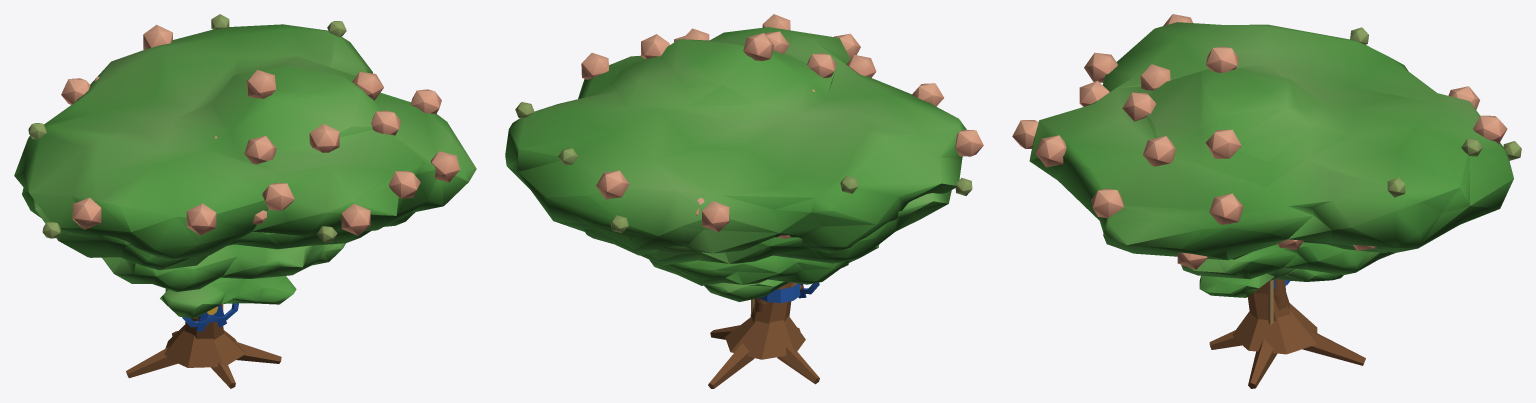
File: peach_tree.glb
3 renders of one model, left to right at view 1: azimuth 30°, elevation 25°; view 2: azimuth 150°, elevation 25°; view 3: azimuth 270°, elevation 25°, orthographic. The views are drawn at different scales.
Visible parts, largest first — view 1: tree-peach_tree-ready-heirloom, tree-peach_tree-mature-heirloom, tree-peach_tree-young, tree-peach_tree-sapling, tree-peach_tree-mature, tree-peach_tree-ready; view 2: tree-peach_tree-mature-heirloom, tree-peach_tree-ready-heirloom, tree-peach_tree-young, tree-peach_tree-mature, tree-peach_tree-ready, tree-peach_tree-sapling; view 3: tree-peach_tree-ready-heirloom, tree-peach_tree-mature-heirloom, tree-peach_tree-young, tree-peach_tree-sapling, tree-peach_tree-ready.
Boxes of the visible parts, box(x1,y1,x2,y2) form: tree-peach_tree-ready-heirloom: box(14, 24, 468, 388); tree-peach_tree-mature-heirloom: box(14, 14, 476, 387); tree-peach_tree-young: box(102, 243, 345, 291); tree-peach_tree-sapling: box(160, 276, 296, 318); tree-peach_tree-mature: box(22, 190, 397, 269); tree-peach_tree-ready: box(22, 77, 415, 270); tree-peach_tree-mature-heirloom: box(509, 27, 972, 388); tree-peach_tree-ready-heirloom: box(505, 14, 983, 388); tree-peach_tree-young: box(649, 244, 879, 285); tree-peach_tree-mature: box(599, 190, 951, 301); tree-peach_tree-ready: box(583, 89, 936, 315); tree-peach_tree-sapling: box(704, 263, 848, 316); tree-peach_tree-ready-heirloom: box(1012, 14, 1513, 386); tree-peach_tree-mature-heirloom: box(1029, 22, 1521, 388); tree-peach_tree-young: box(1181, 242, 1394, 279); tree-peach_tree-sapling: box(1199, 267, 1343, 324); tree-peach_tree-ready: box(1177, 239, 1390, 309).
Size of the model in its own units: 4.48 by 3.31 by 4.68.
